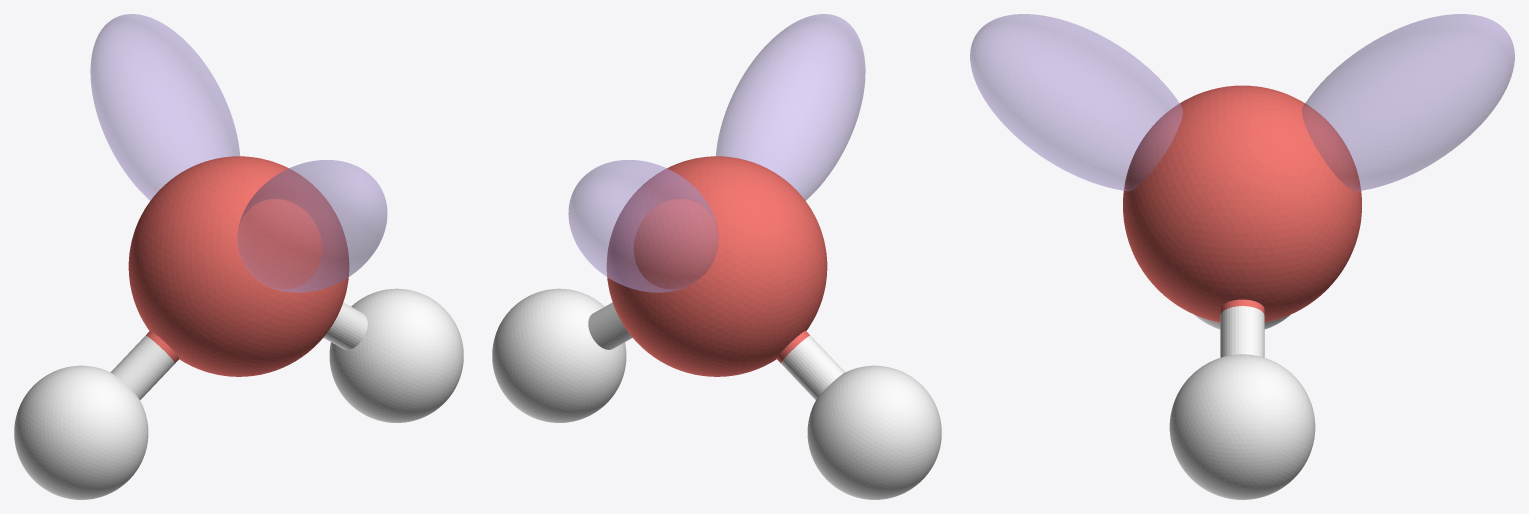
3 renders of one model, left to right at view 1: azimuth 30°, elevation 25°; view 2: azimuth 150°, elevation 25°; view 3: azimuth 270°, elevation 25°, orthographic. The views are drawn at different scales.
Parts seen in each view (by area): view 1: O1, lone_pair2, lone_pair1, H2, H1, bond1_0b, bond0_0b; view 2: O1, lone_pair1, lone_pair2, H2, H1, bond1_0b, bond0_0b; view 3: O1, lone_pair1, lone_pair2, H1, bond0_0b.
Part boxes in pixels (bbox=[...]): O1: bbox=[128, 156, 348, 376]; lone_pair2: bbox=[90, 14, 240, 200]; lone_pair1: bbox=[237, 160, 387, 292]; H2: bbox=[14, 365, 148, 499]; H1: bbox=[329, 288, 463, 422]; bond1_0b: bbox=[110, 335, 174, 399]; bond0_0b: bbox=[323, 302, 367, 349]; O1: bbox=[607, 156, 827, 376]; lone_pair1: bbox=[715, 14, 865, 200]; lone_pair2: bbox=[568, 160, 718, 292]; H2: bbox=[807, 365, 941, 499]; H1: bbox=[492, 288, 626, 422]; bond1_0b: bbox=[781, 335, 845, 399]; bond0_0b: bbox=[588, 302, 632, 349]; O1: bbox=[1123, 85, 1361, 322]; lone_pair1: bbox=[970, 14, 1182, 190]; lone_pair2: bbox=[1302, 14, 1514, 190]; H1: bbox=[1169, 354, 1315, 499]; bond0_0b: bbox=[1220, 306, 1264, 357].
Size of the model in its own units: 0.2078 by 0.1659 by 0.2095.
